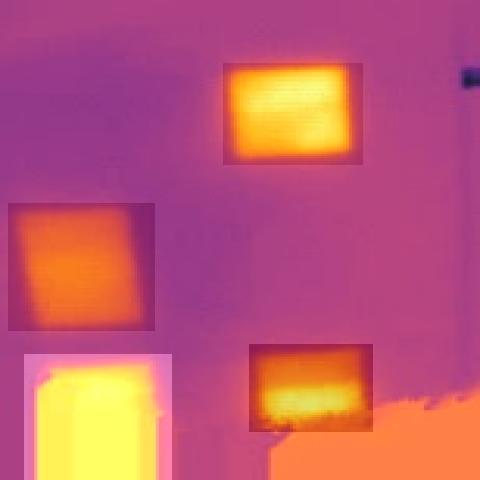fault: (8, 204, 155, 331), (24, 354, 172, 480), (223, 63, 363, 165), (249, 344, 373, 432)
